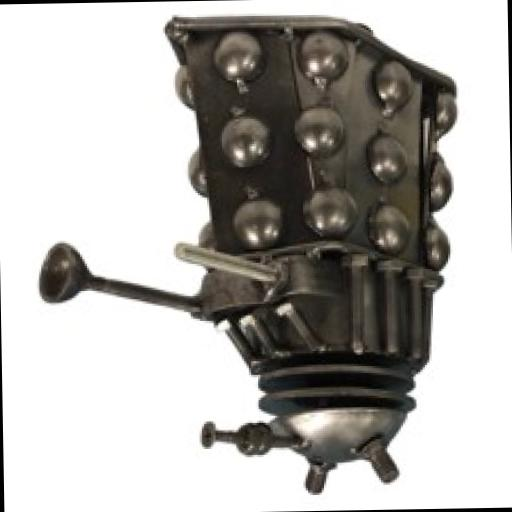dalek: (20, 14, 470, 500)
